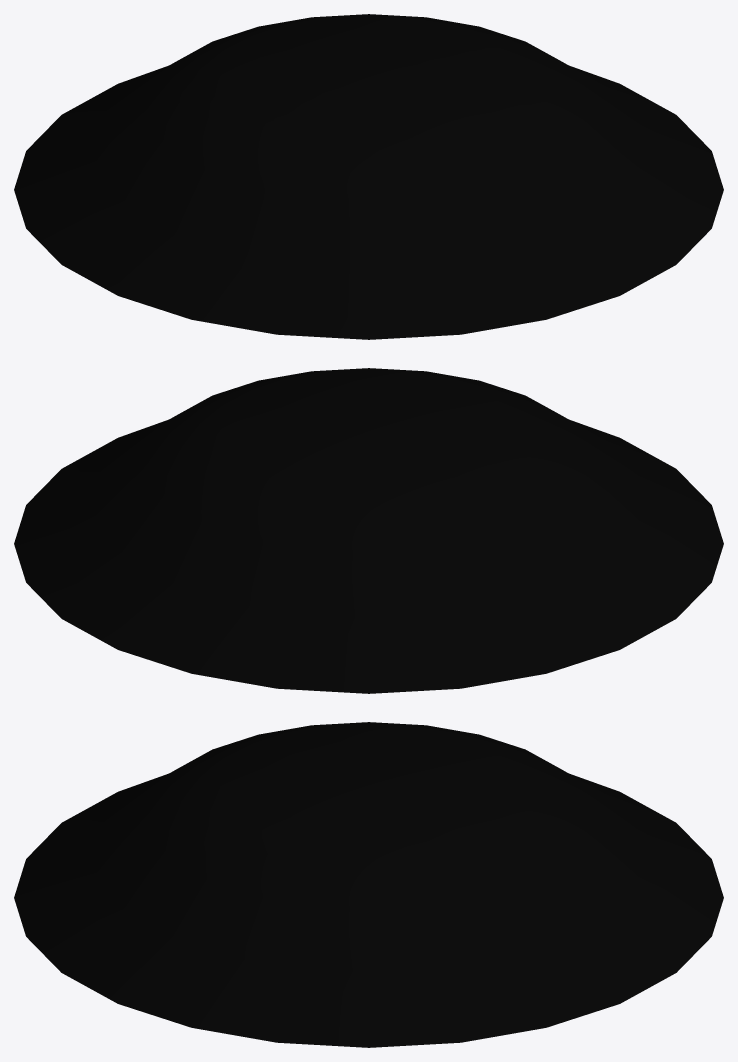
File: track-bump.glb
3 views of the same model, one above another, from view 1: azimuth 30°, elevation 25°; view 2: azimuth 150°, elevation 25°; view 3: azimuth 270°, elevation 25° (orthographic).
Visible parts, largest first — view 1: track-bump; view 2: track-bump; view 3: track-bump.
Boxes of the visible parts, x1=… form: track-bump: x1=14, y1=14, x2=723, y2=339; track-bump: x1=14, y1=368, x2=723, y2=693; track-bump: x1=14, y1=722, x2=723, y2=1047.
Bounding box in the file's own units: 3.38 × 0.5867 × 3.38.
Materials: 1 (1 with a texture image).
